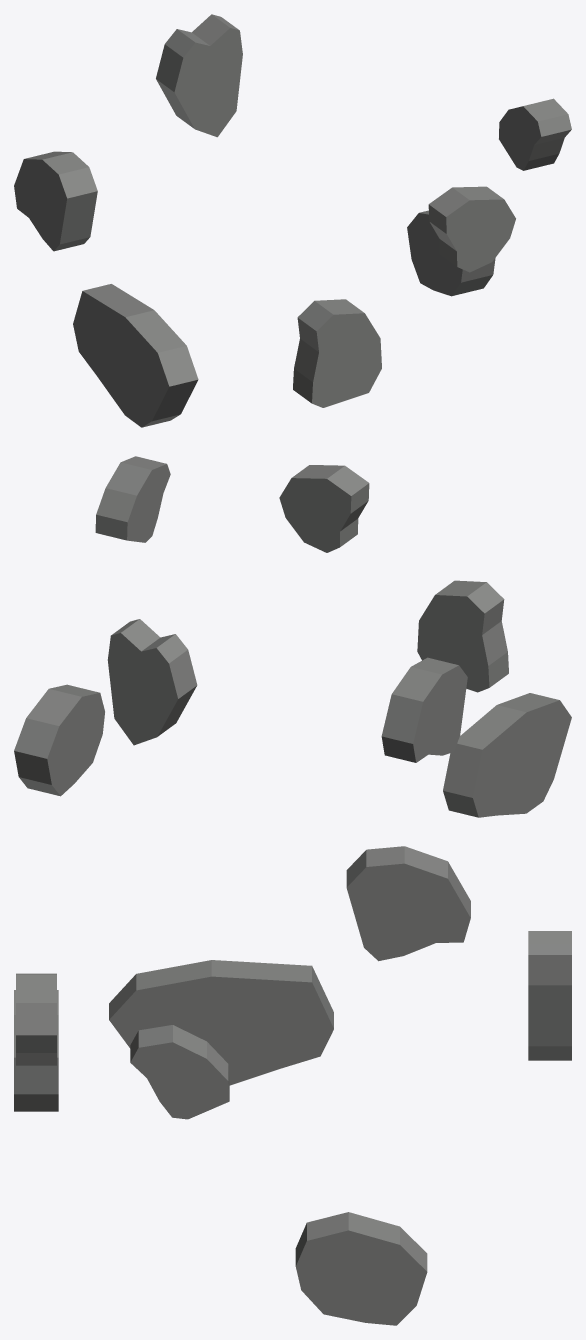
The model's file is TileDecor.fbx.
The picture shows the model from 3 angles, top to bottom: view 1: azimuth 30°, elevation 25°; view 2: azimuth 150°, elevation 25°; view 3: azimuth 270°, elevation 25°; orthographic projection. The views are drawn at different scales.
Parts seen in each view (by area): view 1: TileDecor.001; view 2: TileDecor.001; view 3: TileDecor.001.
Part boxes in pixels (x1=…): TileDecor.001: x1=14, y1=14, x2=571, y2=427; TileDecor.001: x1=14, y1=456, x2=571, y2=817; TileDecor.001: x1=14, y1=846, x2=571, y2=1325.
Size of the model in its own units: 229 by 131 by 230.
